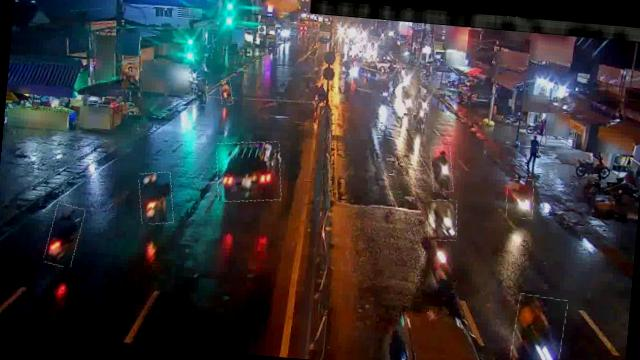Bike: (508, 294, 566, 360), (45, 204, 83, 268), (136, 170, 176, 226), (427, 200, 459, 243), (428, 146, 455, 194), (504, 178, 534, 219), (410, 100, 428, 133), (398, 85, 416, 114), (192, 77, 208, 105), (220, 80, 233, 105), (417, 93, 429, 110)
Car: (214, 138, 284, 204)
